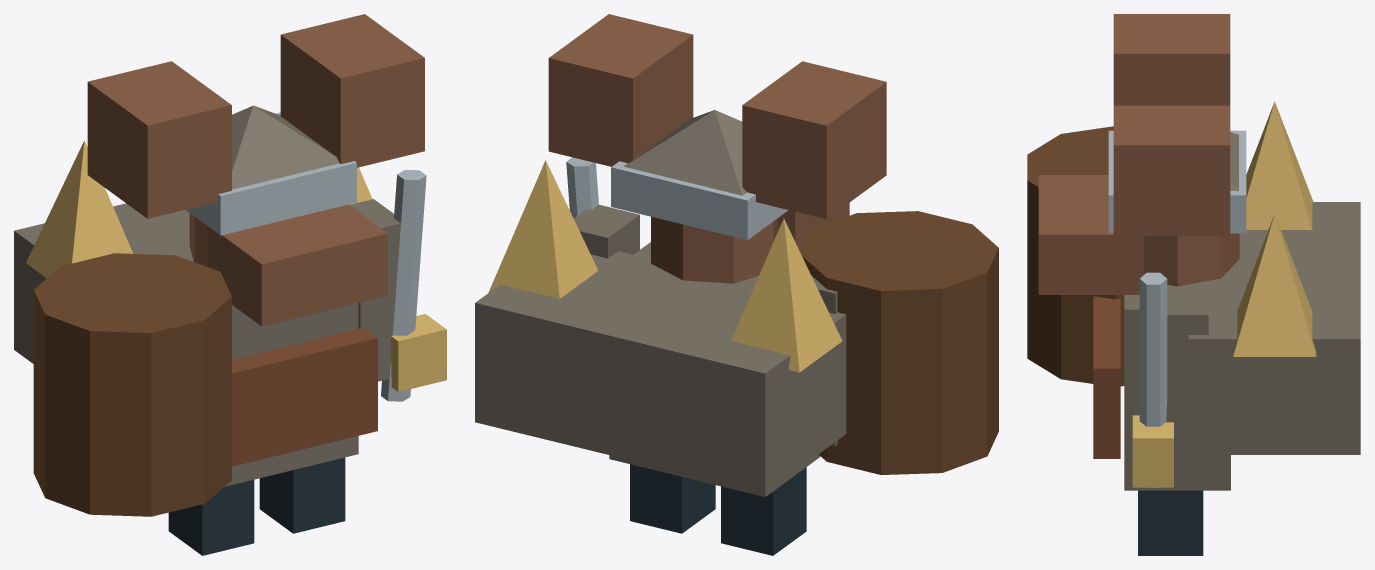
The model's file is heavy-mobile.obj.
3 renders of one model, left to right at view 1: azimuth 30°, elevation 25°; view 2: azimuth 150°, elevation 25°; view 3: azimuth 270°, elevation 25°, orthographic. The views are drawn at different scales.
Parts seen in each view (by area): view 1: infantry; view 2: infantry; view 3: infantry.
Part boxes in pixels (x1,y1,x2,y2): infantry: (14, 14, 446, 555); infantry: (475, 14, 998, 555); infantry: (1027, 14, 1360, 555).
Bounding box in the file's own units: 1.66 × 1.76 × 1.2.
